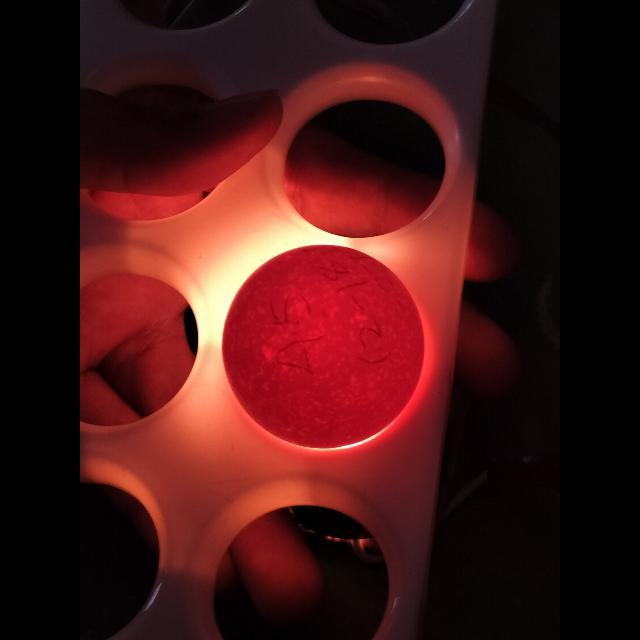Infertile: (225, 240, 418, 448)
